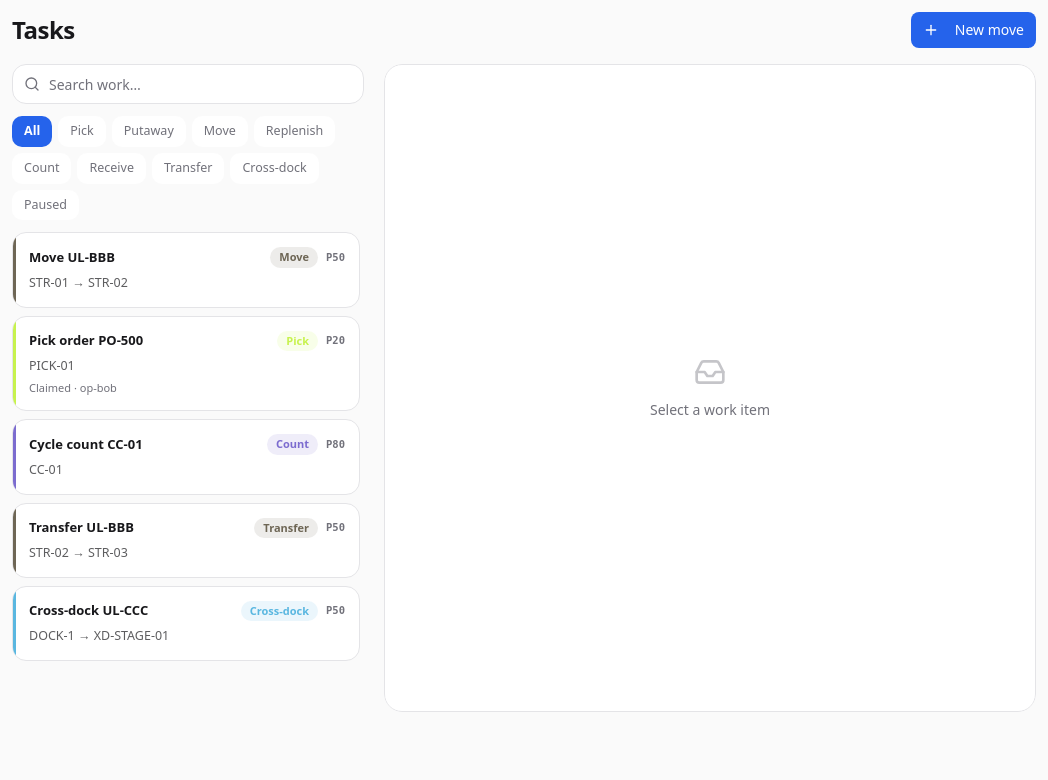
Scenario: TasksPage › selecting a CROSS_DOCK item renders the transport pane too
Click the button with test id "work-row-CROSS_DOCK:13".
click(89, 610)  # box [12,586,360,661]
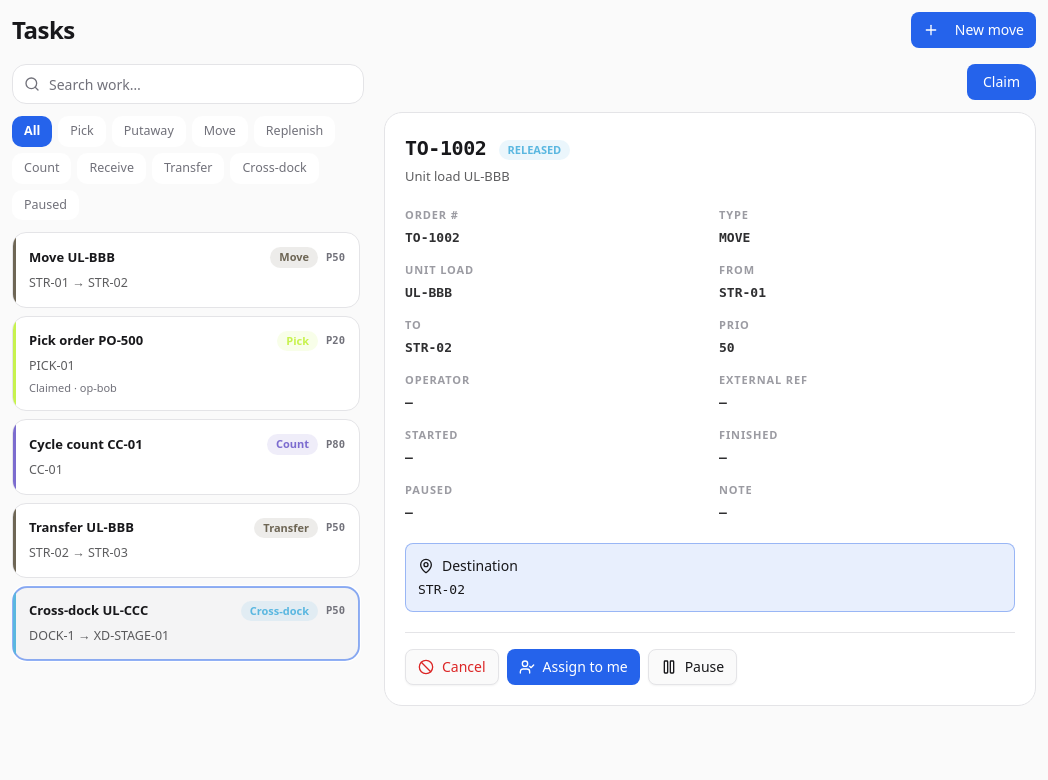
expect the element with test id "task-detail-state" is shown: met, box [498,136,570,160]
